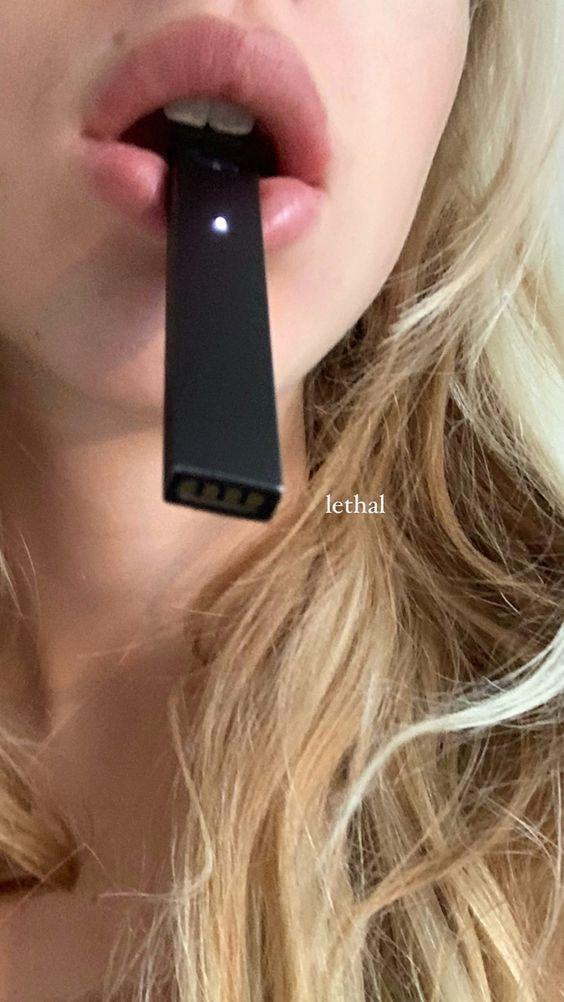Vape: (164, 146, 281, 522)
